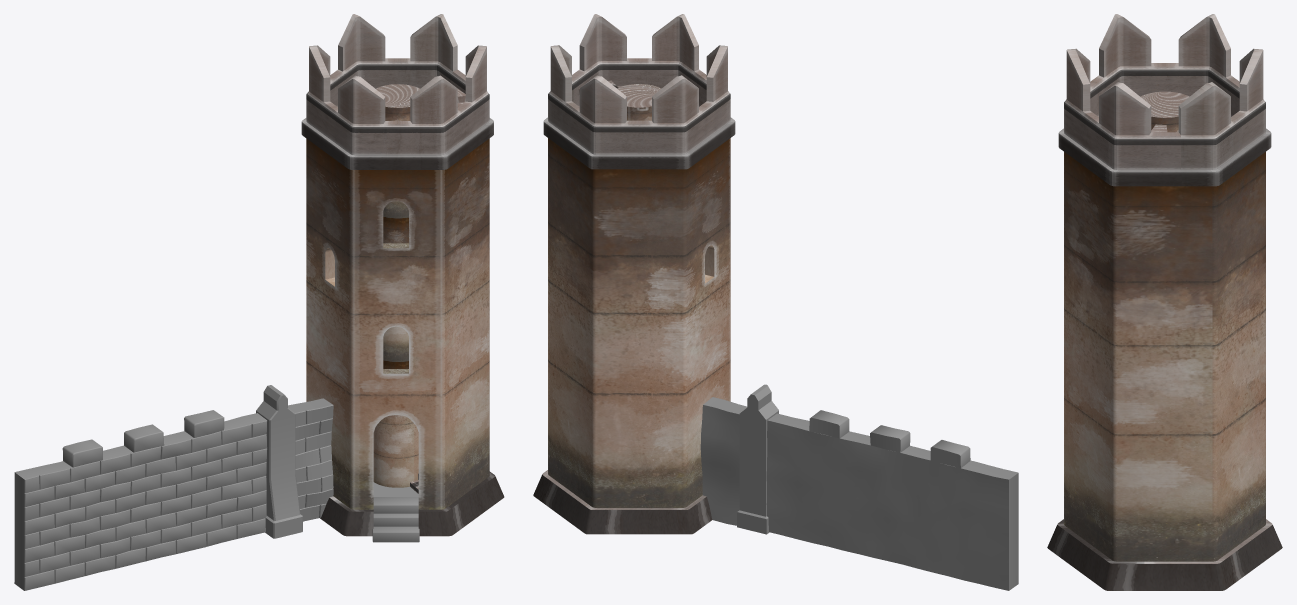
Rendered from Models.FBX.
3 views of the same model, side by side, from view 1: azimuth 30°, elevation 25°; view 2: azimuth 150°, elevation 25°; view 3: azimuth 270°, elevation 25° (orthographic). The views are drawn at different scales.
Parts seen in each view (by area): view 1: Tower, Wall, ToweTop, Stairs, Column, LittleWall, Steps; view 2: Tower, Wall, ToweTop, LittleWall, Column, Stairs; view 3: Tower, ToweTop, Stairs.
Boxes of the visible parts, x1,y1,x2,y2 form: Tower: (306, 138, 504, 536); Wall: (14, 410, 267, 590); ToweTop: (301, 14, 493, 169); Stairs: (373, 84, 465, 493); Column: (256, 385, 302, 538); LittleWall: (288, 398, 333, 521); Steps: (372, 497, 419, 542); Tower: (533, 138, 730, 534); Wall: (766, 410, 1018, 590); ToweTop: (543, 14, 735, 169); LittleWall: (700, 397, 747, 525); Column: (737, 384, 778, 534); Stairs: (578, 80, 661, 120); Tower: (1047, 152, 1282, 590); ToweTop: (1058, 14, 1271, 186); Stairs: (1140, 91, 1189, 132).
Size of what is drawn, in the model's own units: 859 by 815 by 347.
